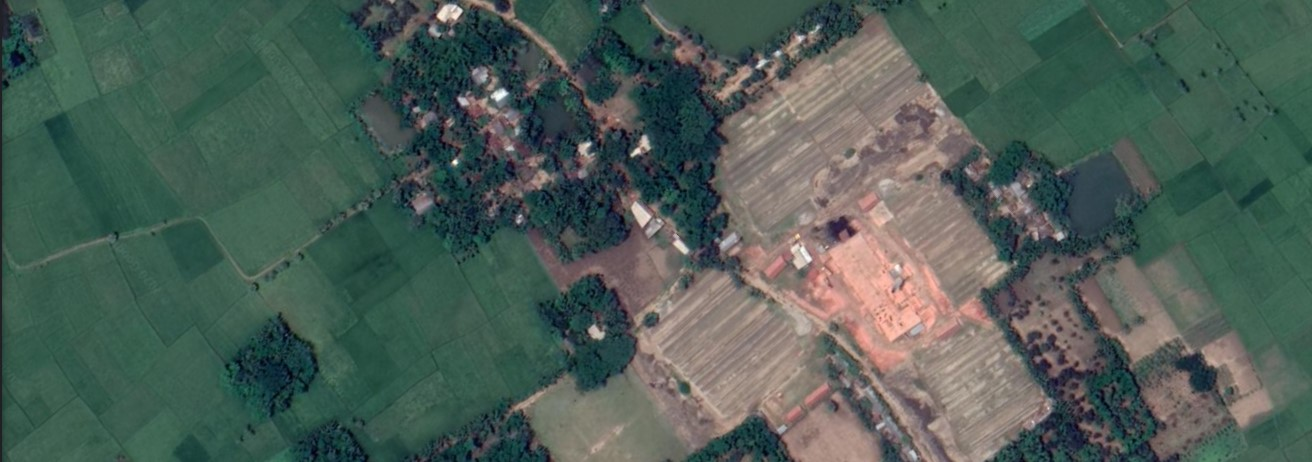kiln: (823, 244, 939, 341)
